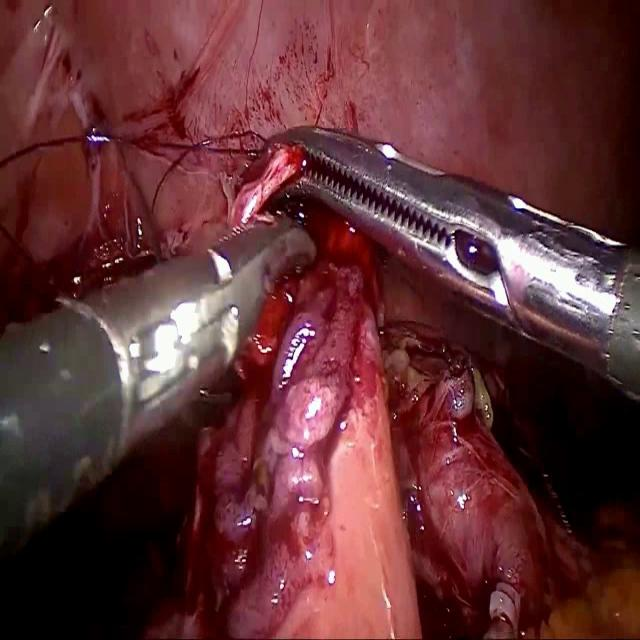surgical-tool: (0, 208, 316, 565), (274, 123, 640, 398)
